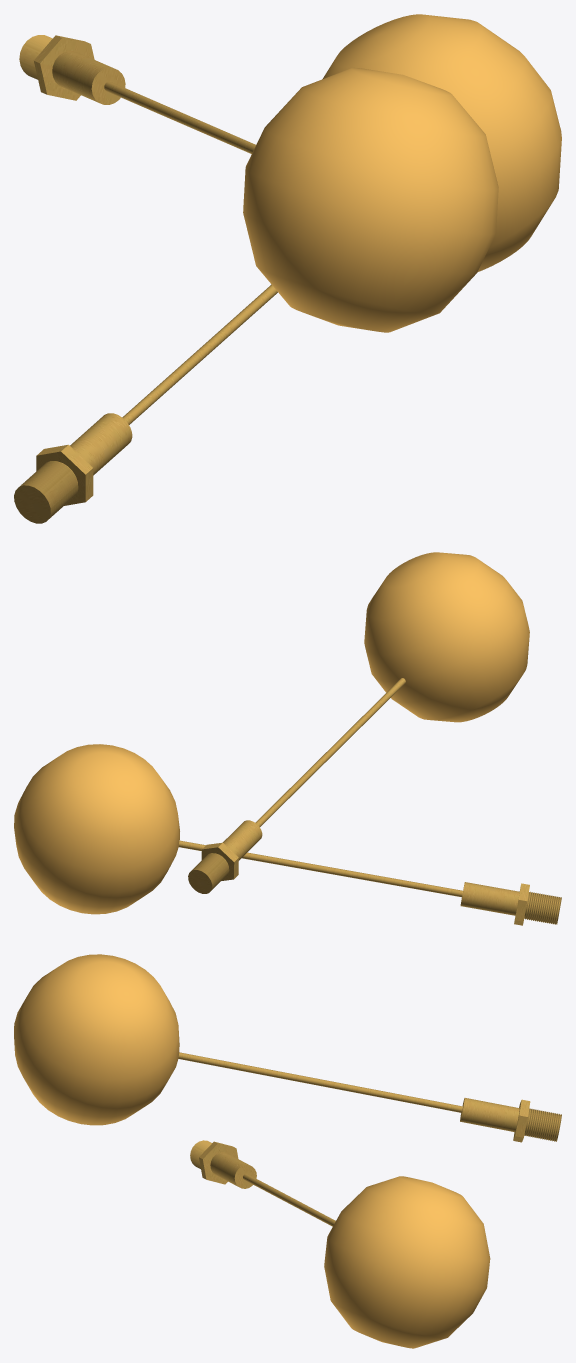
The model's file is HID-REG-005_anim.glb.
3 views of the same model, one above another, from view 1: azimuth 30°, elevation 25°; view 2: azimuth 150°, elevation 25°; view 3: azimuth 270°, elevation 25° (orthographic). The views are drawn at different scales.
Parts seen in each view (by area): view 1: HID-REG-005_anim1, HID-REG-005_anim0; view 2: HID-REG-005_anim0, HID-REG-005_anim1; view 3: HID-REG-005_anim1, HID-REG-005_anim0.
Part boxes in pixels (left/top/right/bottom): HID-REG-005_anim1: left=19, top=35, right=498, bottom=332; HID-REG-005_anim0: left=14, top=14, right=561, bottom=523; HID-REG-005_anim0: left=14, top=744, right=561, bottom=925; HID-REG-005_anim1: left=188, top=552, right=529, bottom=893; HID-REG-005_anim1: left=14, top=954, right=561, bottom=1142; HID-REG-005_anim0: left=190, top=1140, right=490, bottom=1348.
Size of the model in its own units: 0.4526 by 0.2836 by 0.4884.
2 materials, 1 textured.
